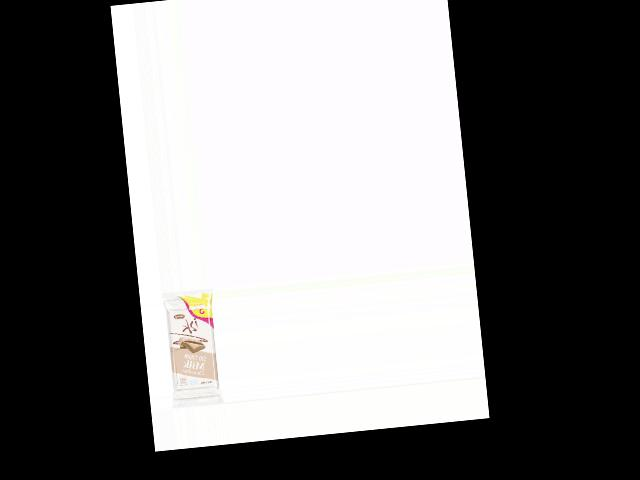chocolate: (160, 288, 222, 398)
